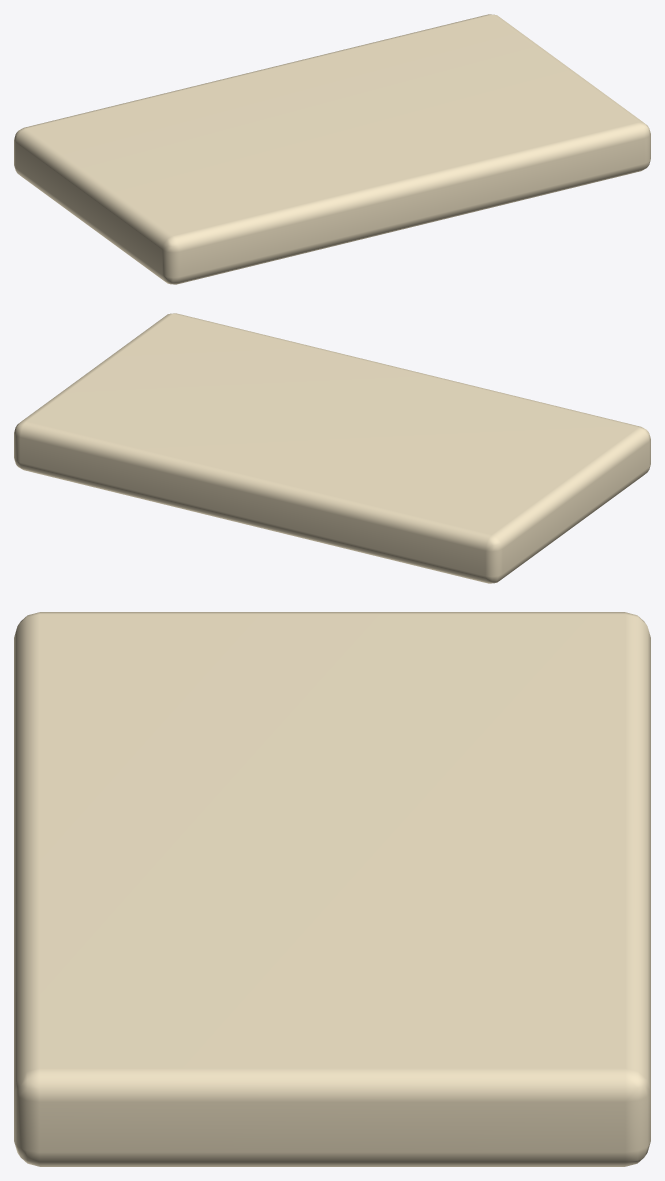
The model's file is podium_plinth.glb.
3 renders of one model, top to bottom at view 1: azimuth 30°, elevation 25°; view 2: azimuth 150°, elevation 25°; view 3: azimuth 270°, elevation 25°, orthographic. The views are drawn at different scales.
Visible parts, largest first — view 1: FIT_podium_landscape_plinth_NEW_V2; view 2: FIT_podium_landscape_plinth_NEW_V2; view 3: FIT_podium_landscape_plinth_NEW_V2.
Boxes of the visible parts, x1,y1,x2,y2 form: FIT_podium_landscape_plinth_NEW_V2: (14,14,650,284); FIT_podium_landscape_plinth_NEW_V2: (14,313,650,583); FIT_podium_landscape_plinth_NEW_V2: (14,612,650,1166).
Size of the model in its own units: 2.65 by 0.25 by 1.5.
